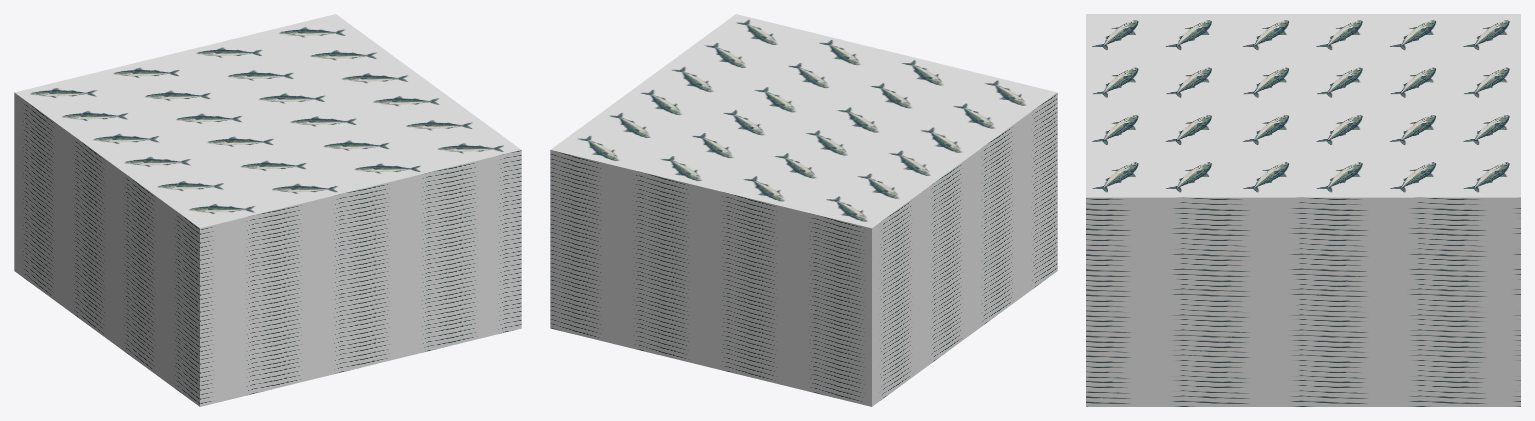
File: sarmakagıdı_toplu.fbx
3 views of the same model, side by side, from view 1: azimuth 30°, elevation 25°; view 2: azimuth 150°, elevation 25°; view 3: azimuth 270°, elevation 25° (orthographic). The views are drawn at different scales.
Visible parts, largest first — view 1: sarma_toplu; view 2: sarma_toplu; view 3: sarma_toplu.
Part boxes in pixels (x1=…): sarma_toplu: x1=14, y1=14, x2=521, y2=406; sarma_toplu: x1=550, y1=14, x2=1057, y2=406; sarma_toplu: x1=1086, y1=14, x2=1520, y2=406.
Bounding box in the file's own units: 81.48 × 43.24 × 81.48.
1 material, 1 textured.
